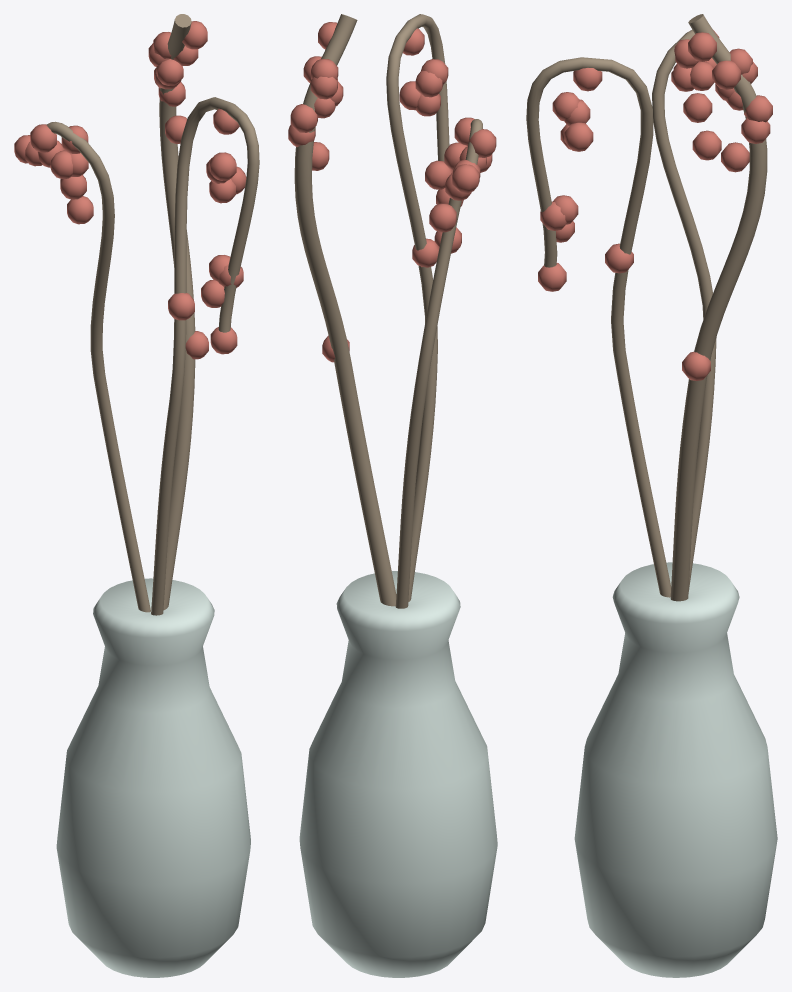
The model's file is sg_vase_celadon.glb.
3 views of the same model, side by side, from view 1: azimuth 30°, elevation 25°; view 2: azimuth 150°, elevation 25°; view 3: azimuth 270°, elevation 25° (orthographic). The views are drawn at different scales.
Visible parts, largest first — view 1: vase, plum_blossoms, plum_br2, plum_br1, plum_br0; view 2: vase, plum_blossoms, plum_br0, plum_br2, plum_br1; view 3: vase, plum_blossoms, plum_br2, plum_br0, plum_br1.
Boxes of the visible parts, x1,y1,x2,y2 form: vase: [56, 578, 250, 977]; plum_blossoms: [14, 21, 246, 359]; plum_br2: [151, 97, 259, 615]; plum_br1: [33, 121, 150, 612]; plum_br0: [151, 14, 195, 610]; vase: [299, 571, 497, 977]; plum_blossoms: [288, 22, 496, 362]; plum_br0: [294, 14, 396, 606]; plum_br2: [386, 14, 449, 601]; plum_br1: [395, 119, 482, 608]; vase: [574, 562, 777, 977]; plum_blossoms: [538, 30, 772, 380]; plum_br2: [526, 57, 671, 597]; plum_br0: [670, 14, 767, 601]; plum_br1: [652, 29, 716, 591].
Bounding box in the file's own units: 0.1826 × 0.8334 × 0.198.
